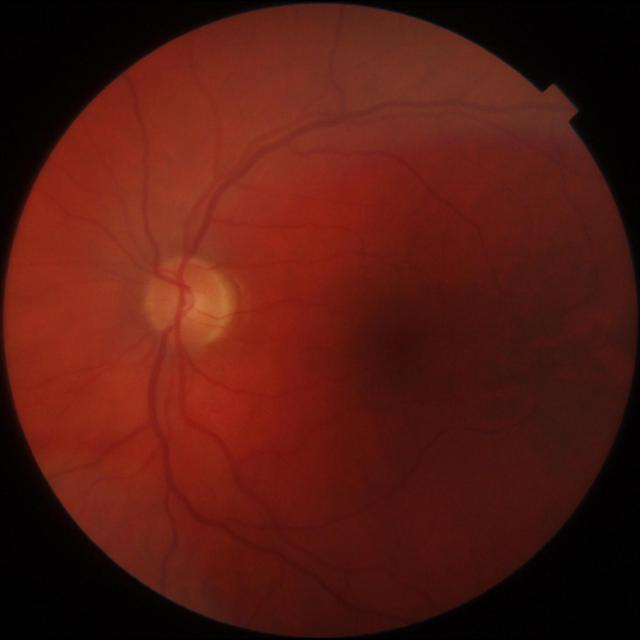OC: (180, 291, 206, 317)
OD: (148, 254, 232, 345)
